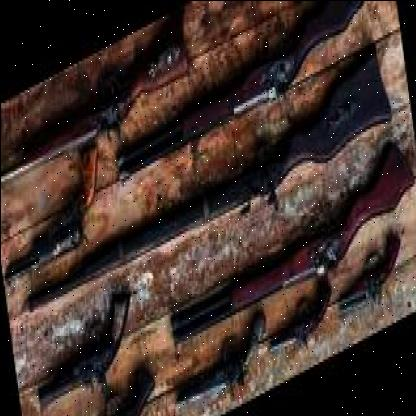rifle: (20, 78, 392, 333), (166, 154, 416, 358)
